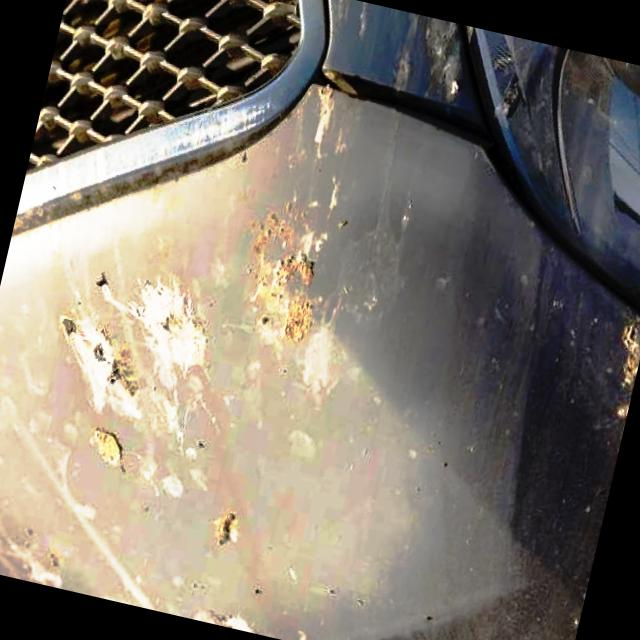Bird Poop: (303, 111, 415, 392), (252, 88, 361, 342), (58, 479, 157, 610), (102, 283, 206, 374), (62, 316, 141, 419), (392, 15, 471, 114), (0, 519, 61, 588), (153, 394, 183, 438), (622, 323, 640, 392), (29, 444, 58, 485), (194, 613, 255, 632), (94, 429, 123, 468), (289, 432, 316, 458), (217, 513, 235, 544), (163, 475, 183, 496), (619, 403, 629, 418)
